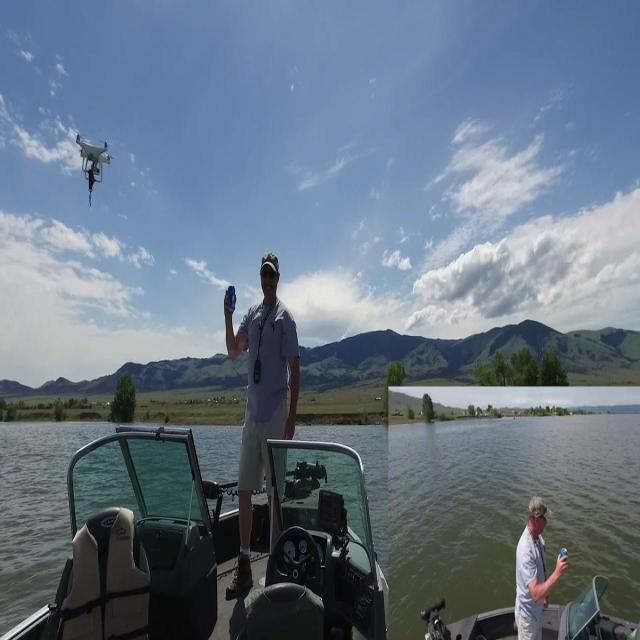UAV: (74, 132, 114, 207)
